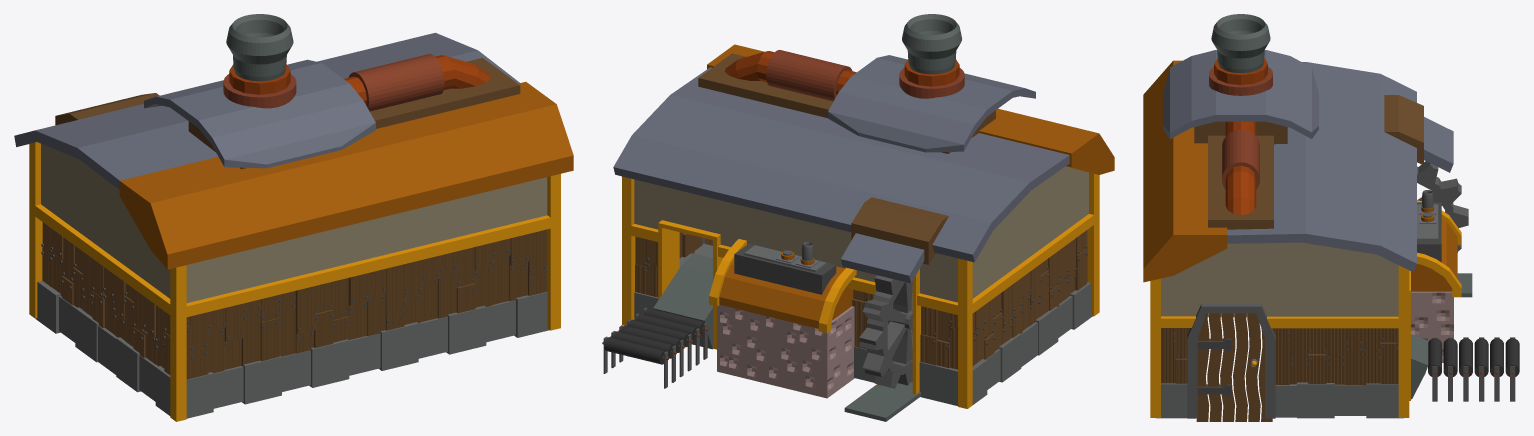
File: Haus.fbx
3 renders of one model, left to right at view 1: azimuth 30°, elevation 25°; view 2: azimuth 150°, elevation 25°; view 3: azimuth 270°, elevation 25°, orthographic. The views are drawn at different scales.
Visible parts, largest first — view 1: Cube.074; view 2: Cube.074; view 3: Cube.074.
Part boxes in pixels (bbox=[...]): Cube.074: bbox=[14, 14, 573, 421]; Cube.074: bbox=[602, 14, 1114, 421]; Cube.074: bbox=[1143, 14, 1519, 421].
Size of the model in its own units: 464 by 362 by 423.
